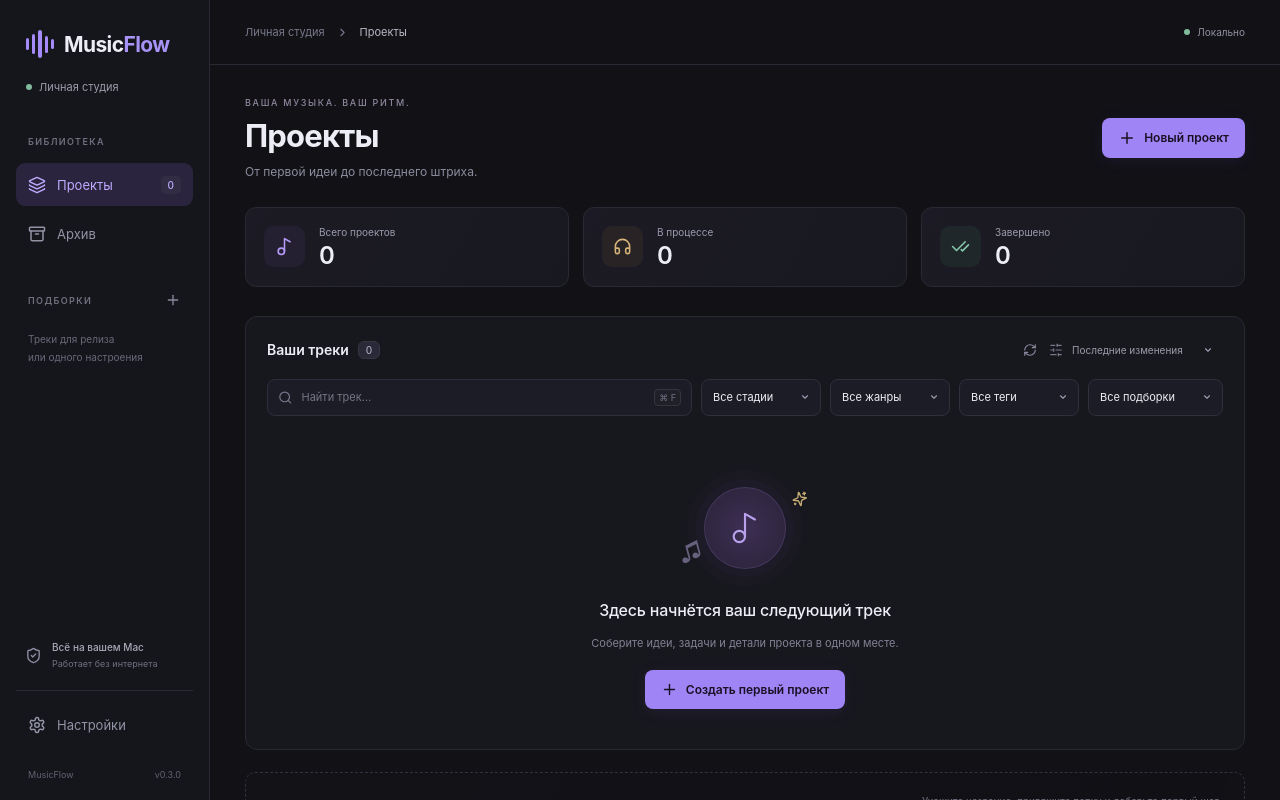
MusicFlow interaction › creates a project from the empty state and opens its card
This screenshot has width=1280, height=800.
Click the button "Создать первый проект" at [745, 690], box [645, 670, 845, 709]
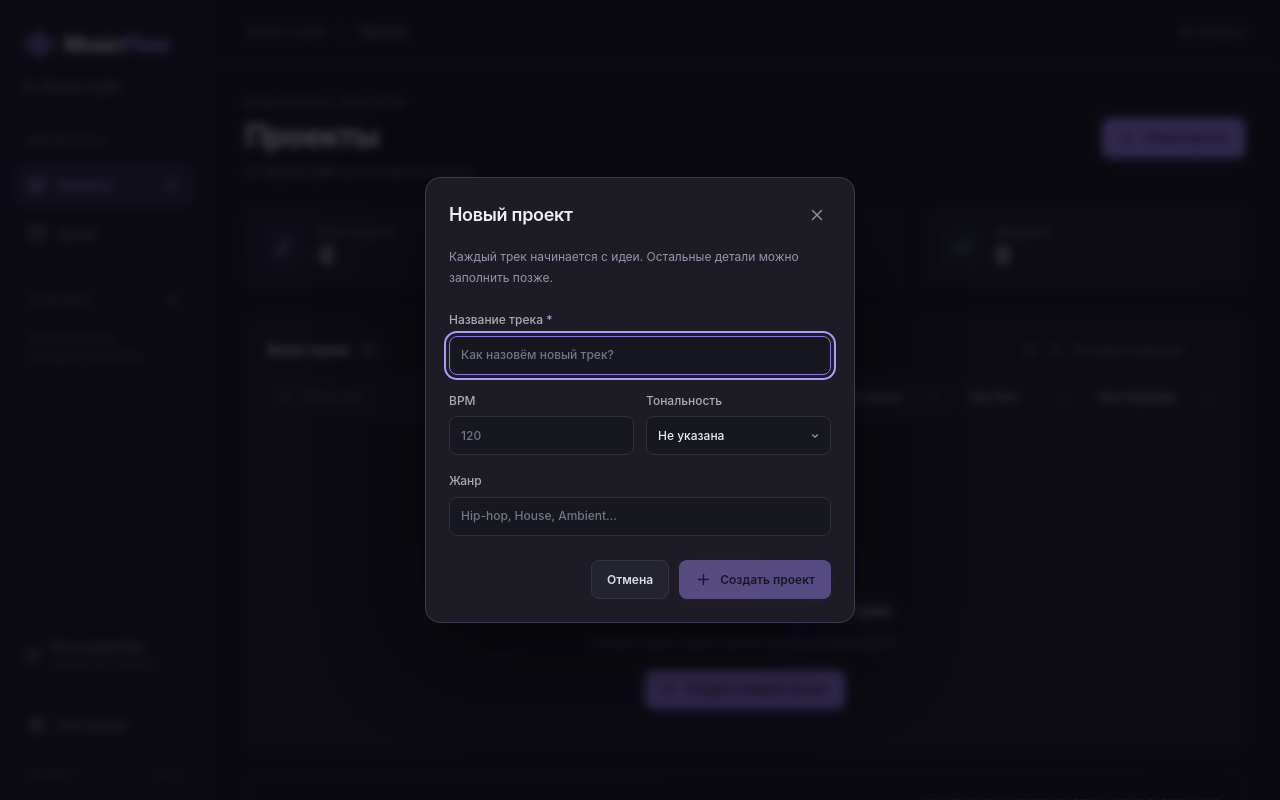
Type "Ночной трек" into the field with placeholder "Как назовём новый трек?" at [640, 355], box [449, 336, 831, 375]
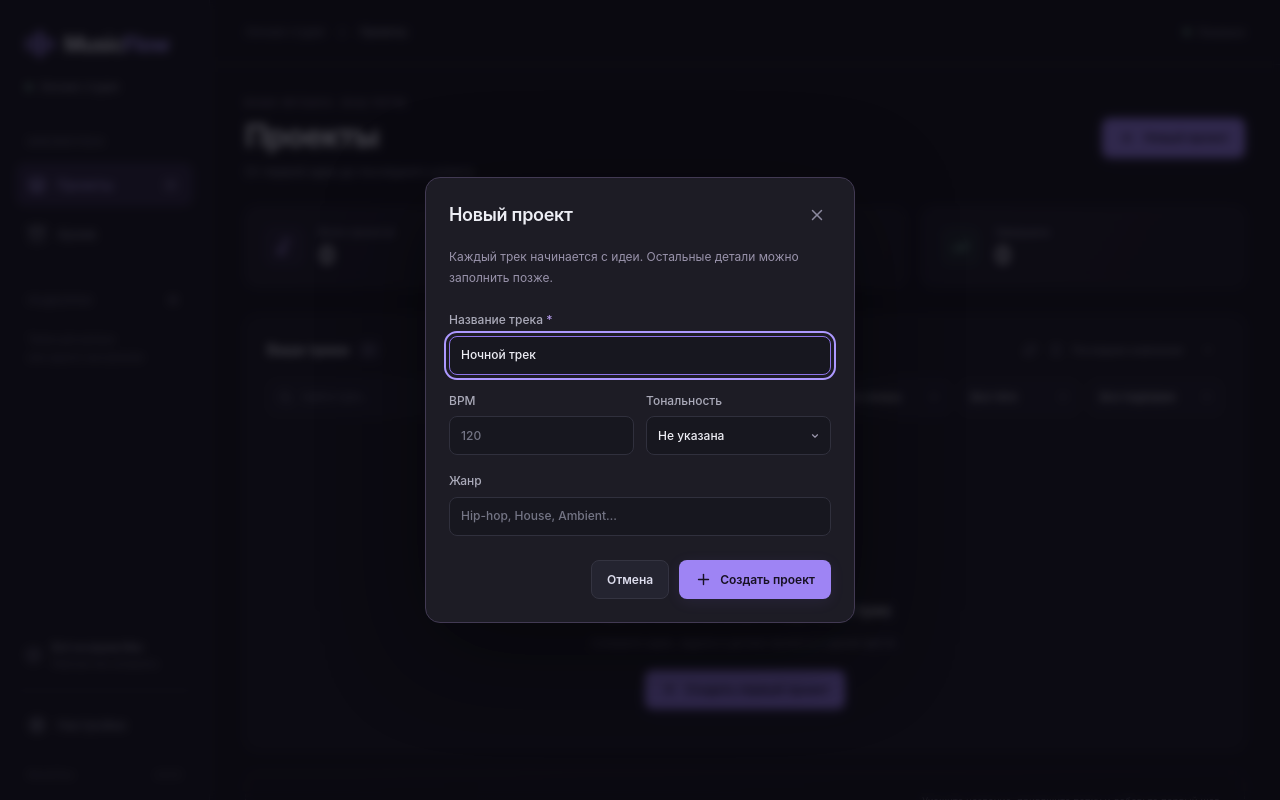
Click the button "Создать проект" at [755, 580], box [679, 560, 831, 599]
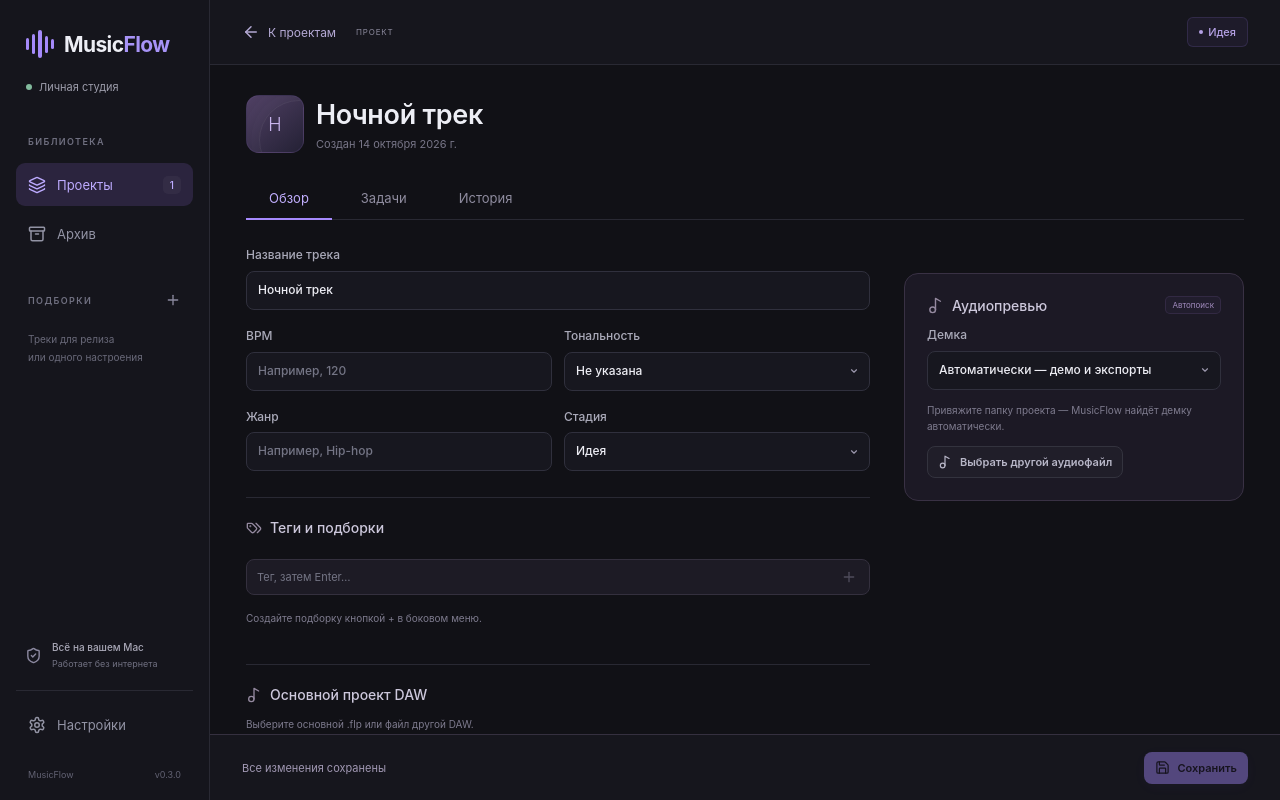
Now the element named "Страница проекта" is shown
Click the tab "Задачи" at [384, 199], box [338, 178, 430, 220]
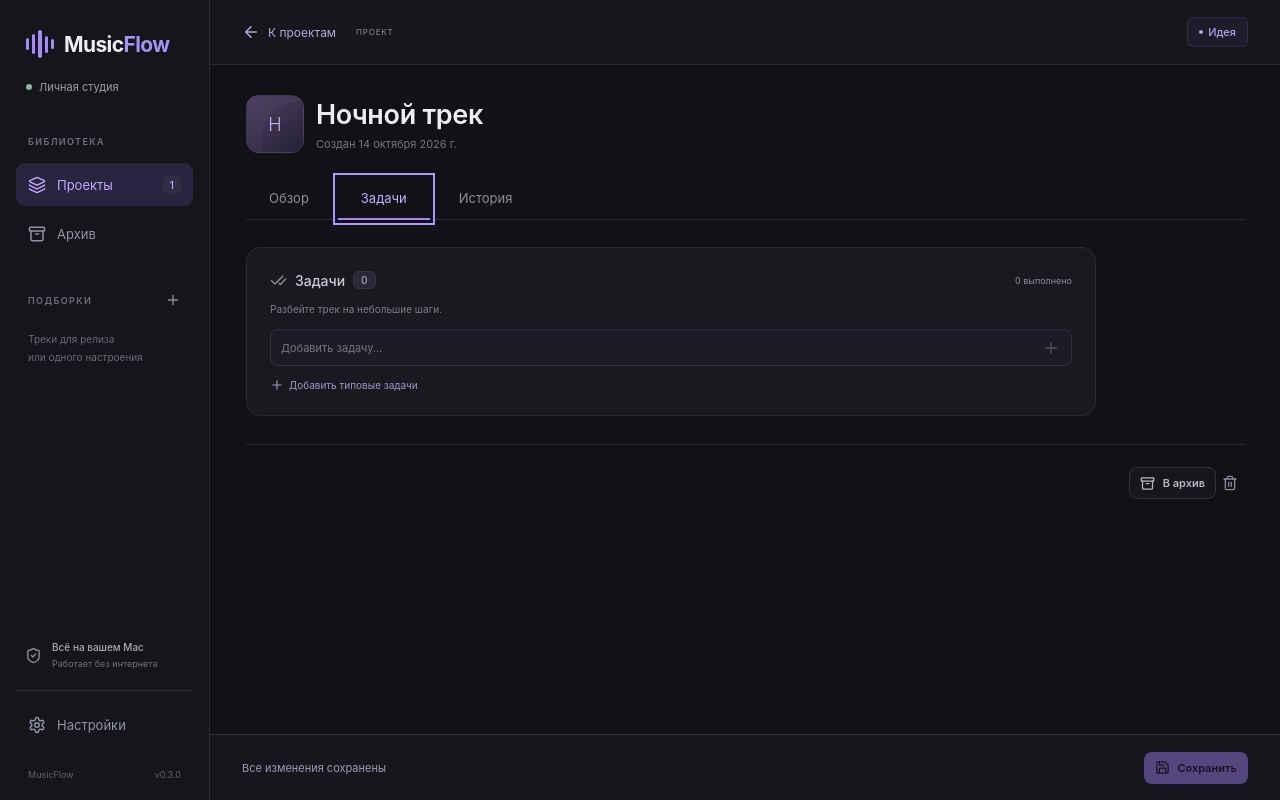
Now the button "Добавить типовые задачи" is shown, box [270, 366, 418, 392]
